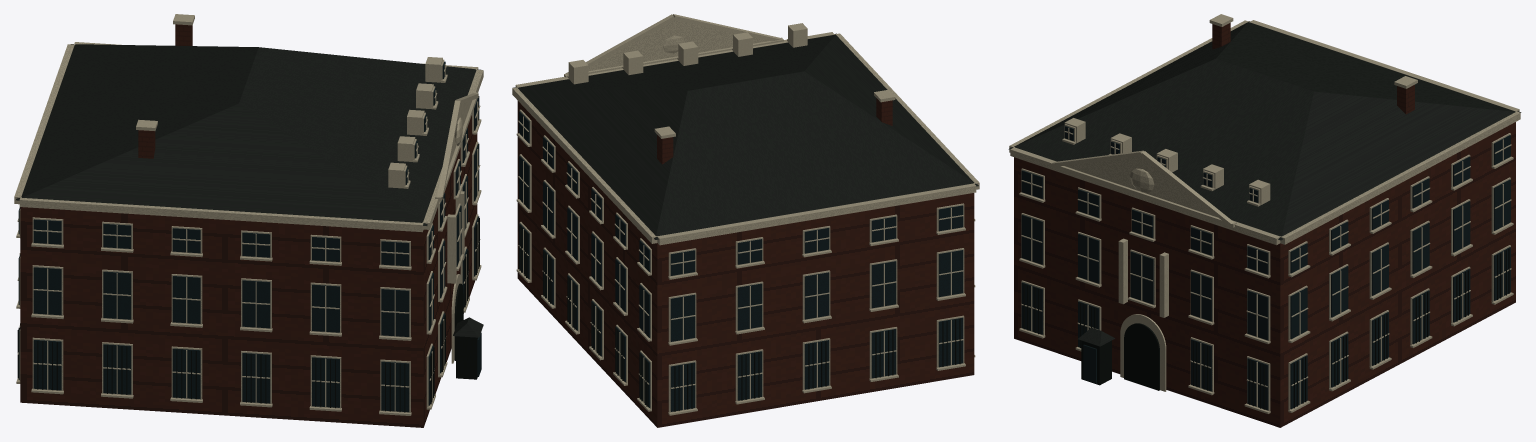
3 renders of one model, left to right at view 1: azimuth 30°, elevation 25°; view 2: azimuth 150°, elevation 25°; view 3: azimuth 270°, elevation 25°, orthographic. The views are drawn at different scales.
Visible parts, largest first — view 1: marinierskazerne-1, marinierskazerne-0, marinierskazerne-2, marinierskazerne-3, marinierskazerne-4; view 2: marinierskazerne-0, marinierskazerne-1, marinierskazerne-2, marinierskazerne-3, marinierskazerne-4; view 3: marinierskazerne-0, marinierskazerne-1, marinierskazerne-2, marinierskazerne-3, marinierskazerne-4.
Boxes of the visible parts, box(x1,y1,x2,y2) form: marinierskazerne-1: box(16, 44, 483, 337); marinierskazerne-0: box(20, 24, 477, 427); marinierskazerne-2: box(14, 14, 483, 415); marinierskazerne-3: box(18, 61, 481, 412); marinierskazerne-4: box(17, 218, 479, 412); marinierskazerne-0: box(517, 98, 974, 427); marinierskazerne-1: box(513, 33, 978, 239); marinierskazerne-2: box(512, 14, 979, 415); marinierskazerne-3: box(519, 111, 963, 411); marinierskazerne-4: box(519, 225, 960, 411); marinierskazerne-0: box(1014, 22, 1515, 427); marinierskazerne-1: box(1008, 21, 1521, 346); marinierskazerne-2: box(1009, 14, 1520, 413); marinierskazerne-3: box(1021, 126, 1510, 410); marinierskazerne-4: box(1023, 248, 1509, 409).
Size of the model in its own units: 39.72 by 20.7 by 39.24.
5 materials, 5 textured.
